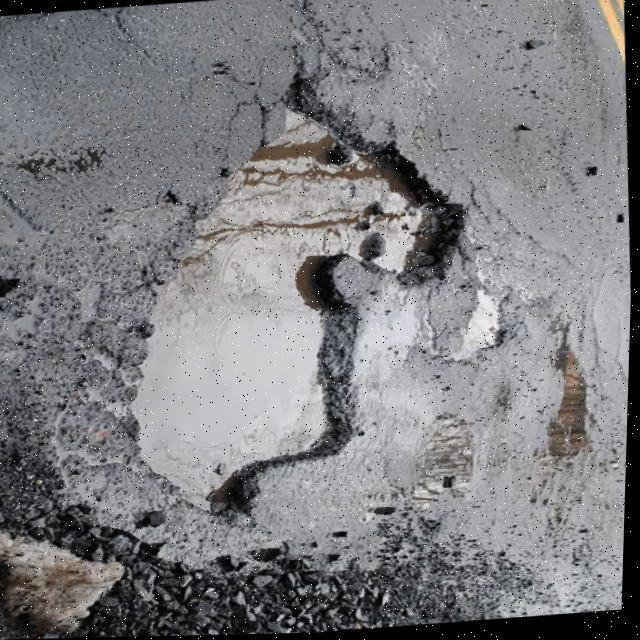Pothole: (120, 60, 472, 533), (0, 452, 479, 640), (449, 277, 509, 365)
